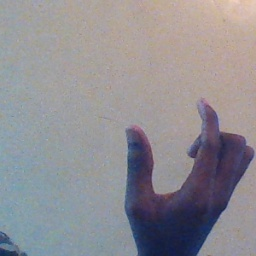U: (121, 96, 256, 251)
